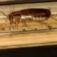cockroach: (8, 8, 51, 24)
